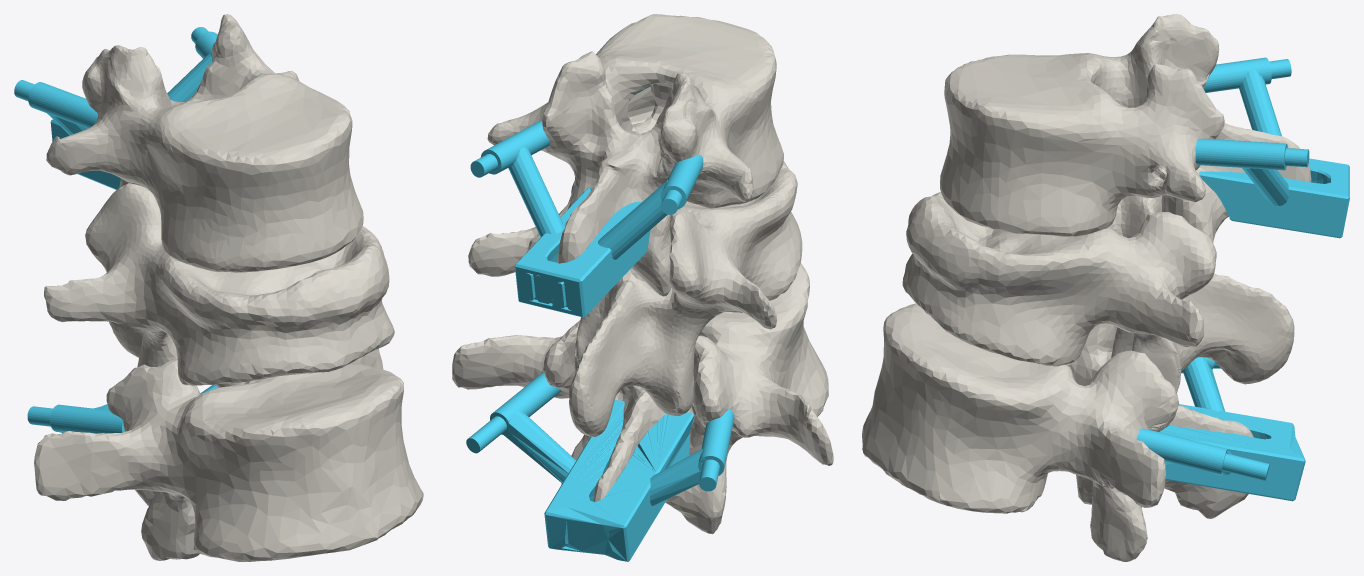
File: rachis_guides.glb
3 views of the same model, side by side, from view 1: azimuth 30°, elevation 25°; view 2: azimuth 150°, elevation 25°; view 3: azimuth 270°, elevation 25° (orthographic). The views are drawn at different scales.
Parts seen in each view (by area): view 1: L3, L1, L2, Guide_L1, Guide_L3; view 2: L1, L2, L3, Guide_L3, Guide_L1; view 3: L3, L1, L2, Guide_L1, Guide_L3.
Boxes of the visible parts, bbox=[...] form: L3: bbox=[34, 348, 423, 561]; L1: bbox=[46, 14, 363, 272]; L2: bbox=[44, 183, 394, 387]; Guide_L1: bbox=[14, 27, 217, 189]; Guide_L3: bbox=[27, 384, 218, 433]; L1: bbox=[487, 14, 783, 296]; L2: bbox=[468, 161, 802, 436]; L3: bbox=[452, 263, 833, 534]; Guide_L3: bbox=[466, 372, 734, 561]; Guide_L1: bbox=[470, 85, 703, 317]; L3: bbox=[862, 303, 1253, 561]; L1: bbox=[940, 14, 1311, 243]; L2: bbox=[902, 192, 1294, 392]; Guide_L1: bbox=[1195, 57, 1349, 238]; Guide_L3: bbox=[1136, 357, 1305, 501].
Size of the model in its own units: 0.0936 by 0.1196 by 0.1091.
